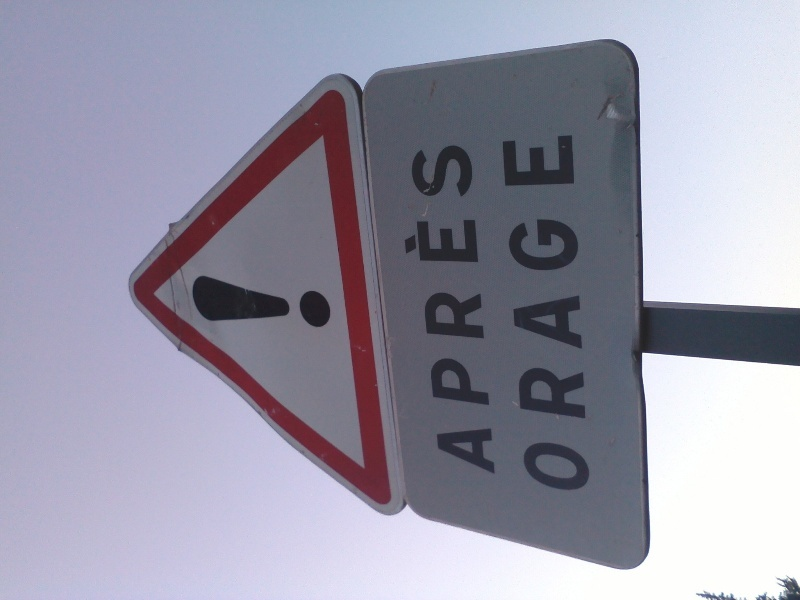text: (513, 134, 528, 500), (529, 134, 544, 500), (545, 134, 560, 500), (561, 134, 576, 500), (481, 145, 497, 479), (577, 134, 591, 500), (401, 145, 416, 479), (417, 145, 432, 479), (433, 145, 448, 479), (449, 145, 464, 479), (465, 145, 480, 479), (499, 134, 512, 500), (386, 145, 400, 479), (193, 273, 208, 329), (209, 273, 224, 329), (225, 273, 240, 329), (241, 273, 256, 329), (257, 273, 272, 329), (273, 273, 288, 329), (289, 273, 304, 329), (305, 273, 320, 329), (321, 273, 333, 329), (191, 273, 192, 329)
